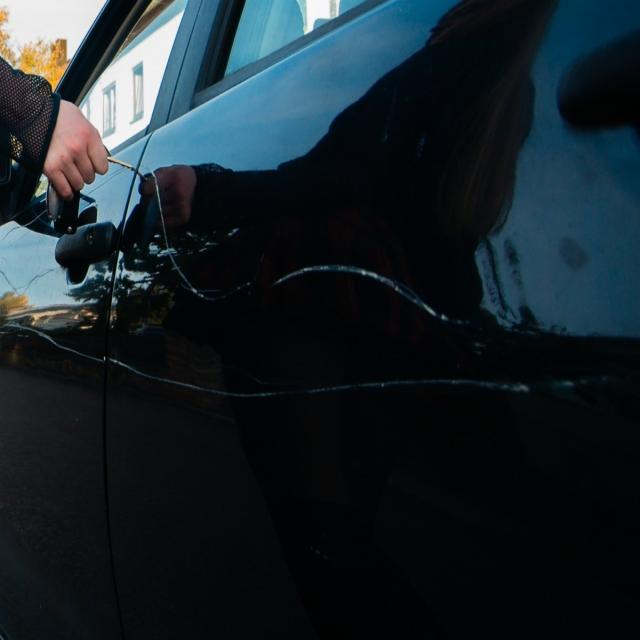scratch: (139, 158, 492, 331), (0, 322, 609, 411)
